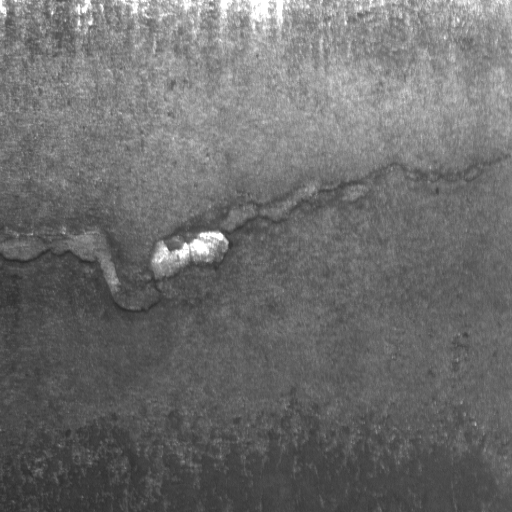qiaopi: (143, 228, 235, 281)
